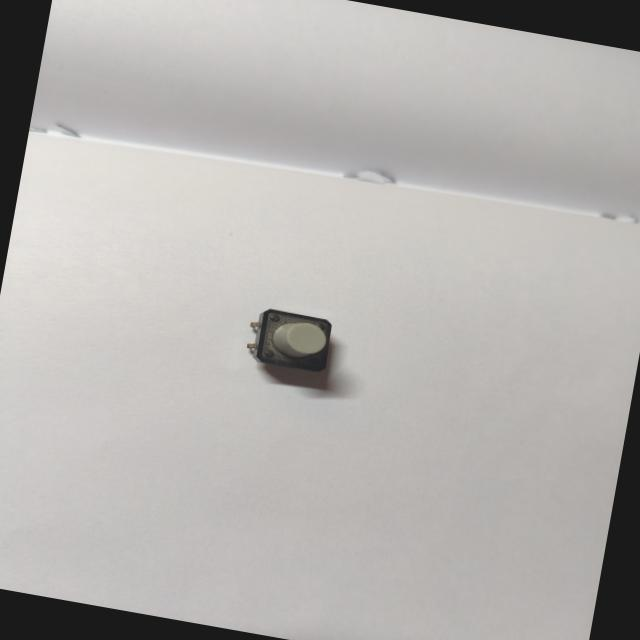switch: (235, 296, 352, 386)
